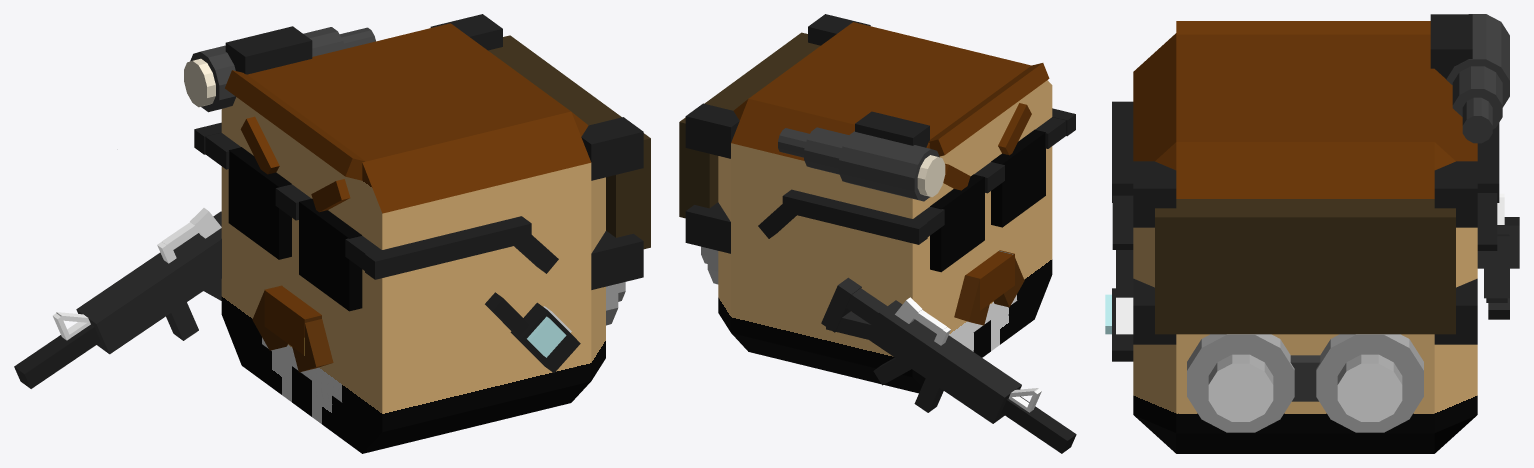
Rendered from playerReloadingar.gltf.
The picture shows the model from 3 angles, left to right: view 1: azimuth 30°, elevation 25°; view 2: azimuth 150°, elevation 25°; view 3: azimuth 270°, elevation 25°; orthographic projection. The views are drawn at different scales.
Parts seen in each view (by area): view 1: beveled_cuboid (×2); view 2: beveled_cuboid (×2); view 3: beveled_cuboid (×2).
Boxes of the visible parts, <box> form: beveled_cuboid (×2): <box>14,14,650,453</box>; beveled_cuboid (×2): <box>679,14,1076,453</box>; beveled_cuboid (×2): <box>1105,14,1519,453</box>.
Size of the model in its own units: 1.69 by 1.06 by 1.2.
Materials: 3 (3 with a texture image).
